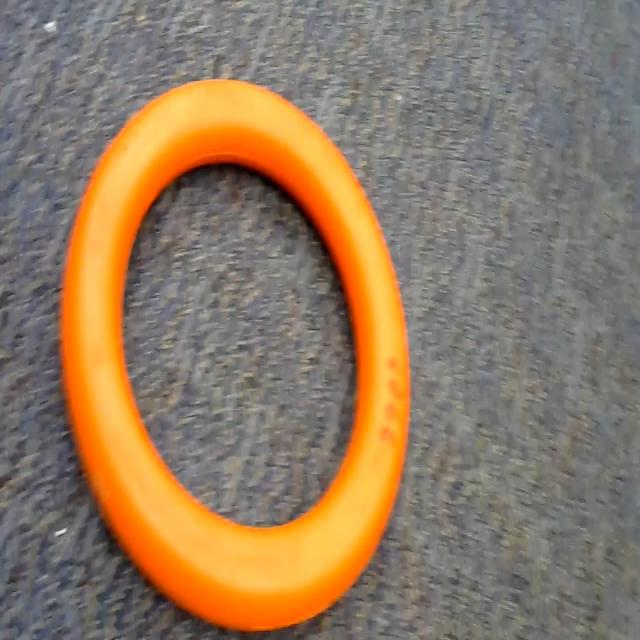note: (41, 70, 417, 639)
